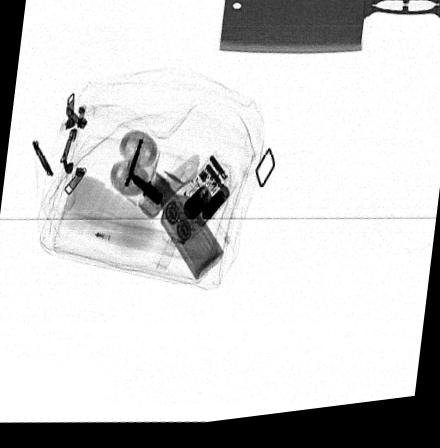Knife: (218, 2, 440, 62)
